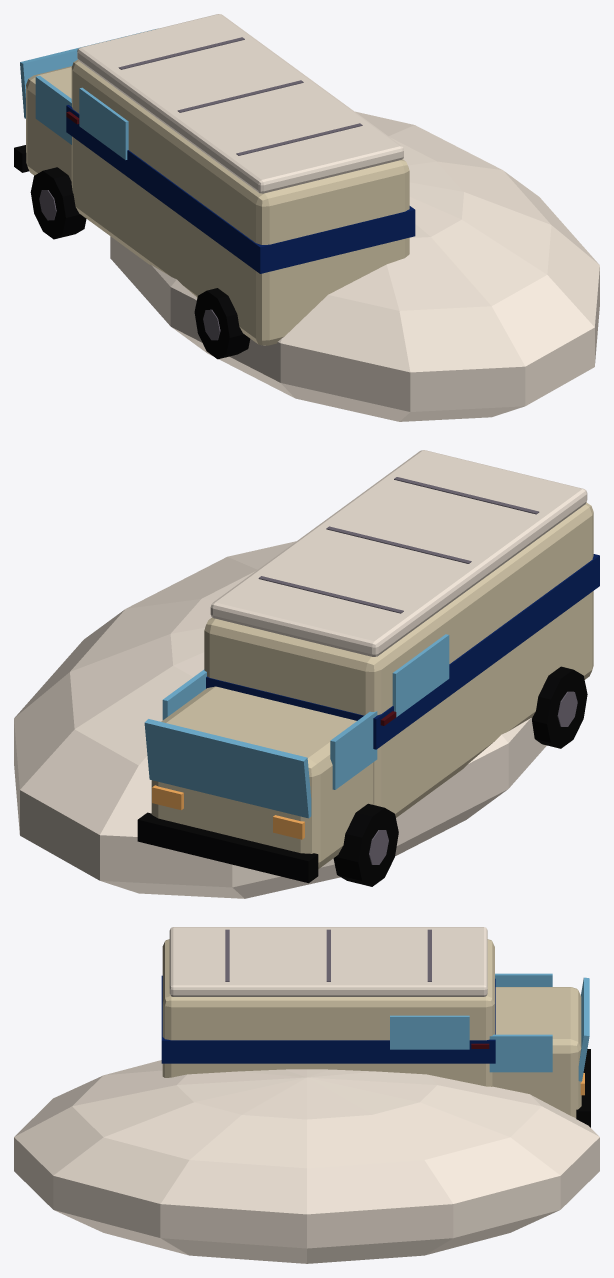
File: rs_van.glb
The picture shows the model from 3 angles, top to bottom: view 1: azimuth 30°, elevation 25°; view 2: azimuth 150°, elevation 25°; view 3: azimuth 270°, elevation 25°; orthographic projection. The views are drawn at different scales.
Parts seen in each view (by area): view 1: van; view 2: van; view 3: van.
Part boxes in pixels (x1,y1,x2,y2): van: [14, 14, 599, 421]; van: [14, 450, 599, 898]; van: [14, 927, 599, 1263].
Size of the model in its own units: 5.14 by 3.55 by 8.11.
